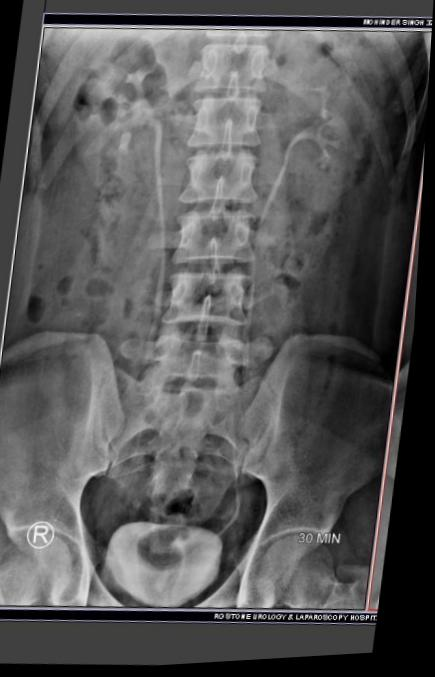bladder: (85, 536, 229, 655)
left kidney: (275, 23, 394, 225)
right kidney: (37, 24, 166, 230)
vertebrae: (174, 71, 269, 149)
